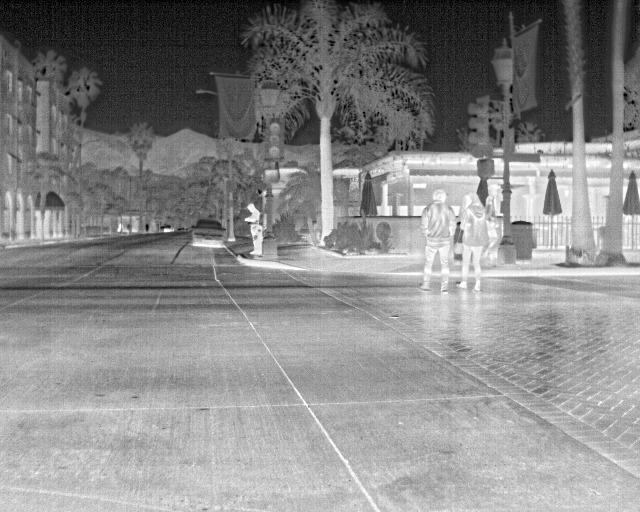bicycle: (189, 219, 229, 251)
empty: (416, 193, 453, 299), (458, 193, 490, 296), (242, 202, 263, 257), (484, 193, 498, 257)
